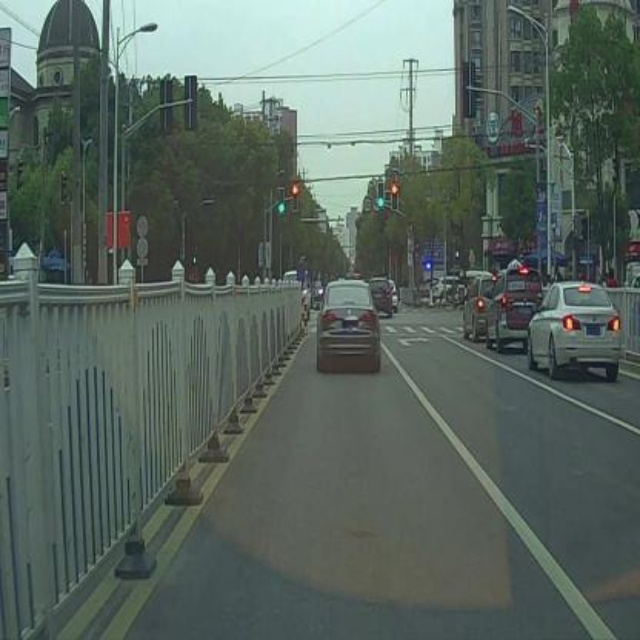Đèn xanh: (376, 181, 384, 208), (278, 187, 285, 216)
